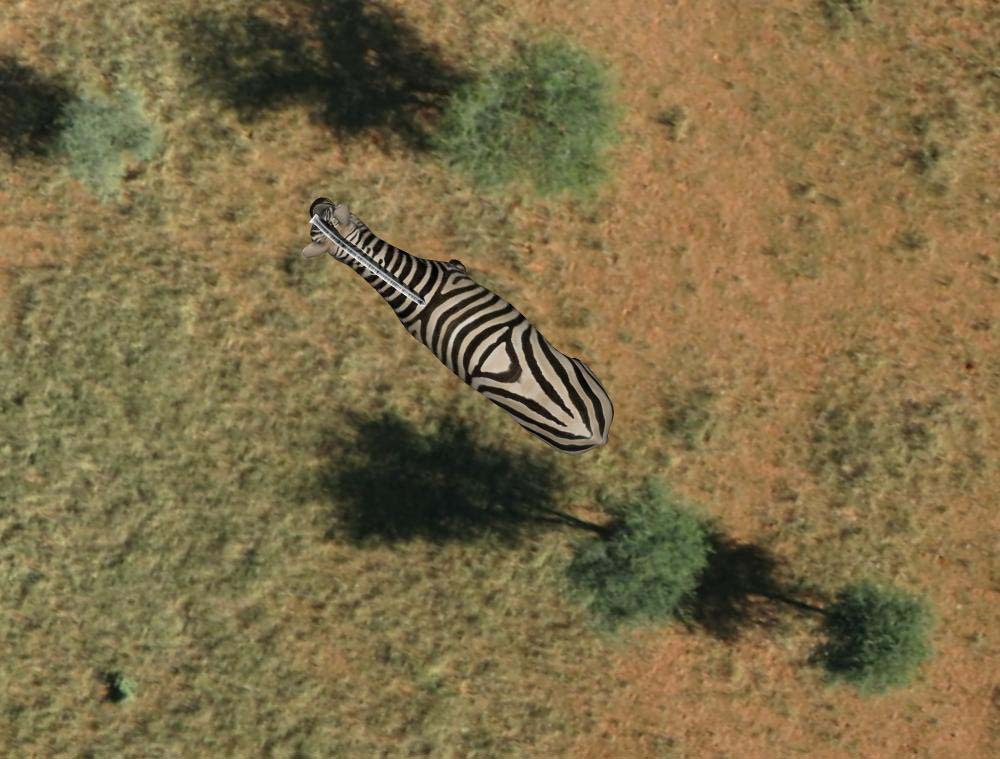zebra: (302, 186, 618, 458)
